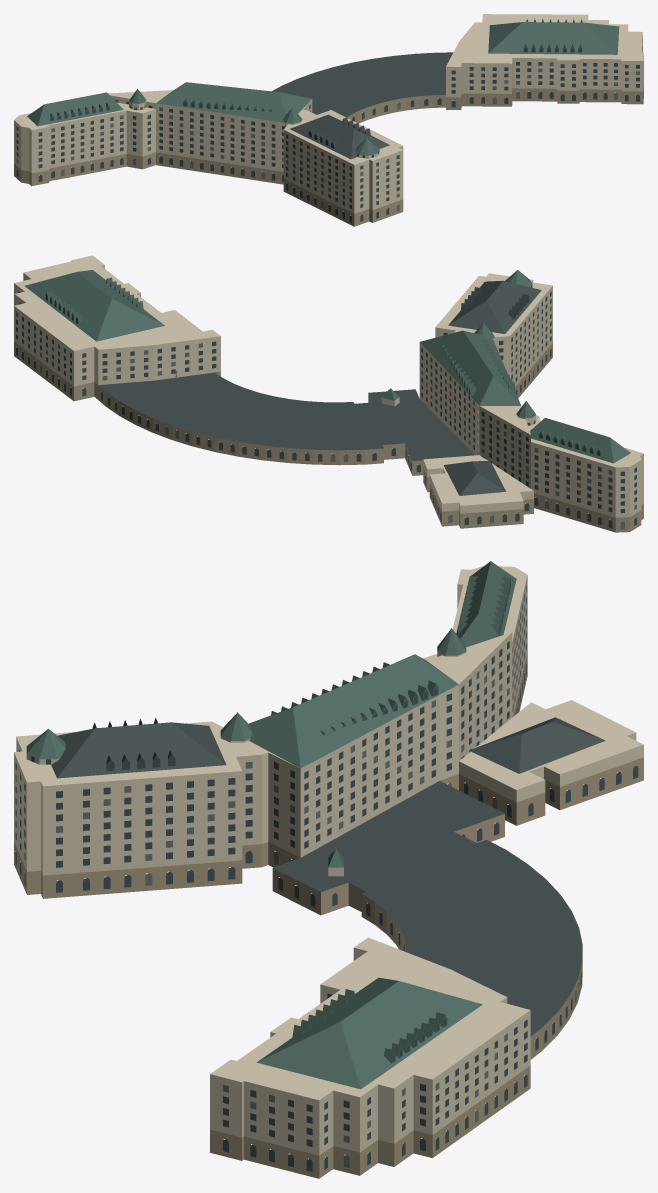
Rendered from fairmont-chateau-lake-louise-far.glb.
The picture shows the model from 3 angles, top to bottom: view 1: azimuth 30°, elevation 25°; view 2: azimuth 150°, elevation 25°; view 3: azimuth 270°, elevation 25°; orthographic projection. The views are drawn at different scales.
Visible parts, largest first — view 1: fairmont-chateau-lake-louise-0-stone, fairmont-chateau-lake-louise-0-copper, fairmont-chateau-lake-louise-0-roof, fairmont-chateau-lake-louise-0-base, fairmont-chateau-lake-louise-0-glass, fairmont-chateau-lake-louise-0-glow; view 2: fairmont-chateau-lake-louise-0-stone, fairmont-chateau-lake-louise-0-roof, fairmont-chateau-lake-louise-0-copper, fairmont-chateau-lake-louise-0-base, fairmont-chateau-lake-louise-0-glass, fairmont-chateau-lake-louise-0-glow; view 3: fairmont-chateau-lake-louise-0-stone, fairmont-chateau-lake-louise-0-roof, fairmont-chateau-lake-louise-0-copper, fairmont-chateau-lake-louise-0-base, fairmont-chateau-lake-louise-0-glass, fairmont-chateau-lake-louise-0-glow.
Part boxes in pixels (box(x1,y1,x2,y2)): fairmont-chateau-lake-louise-0-stone: box(14, 14, 643, 214); fairmont-chateau-lake-louise-0-copper: box(27, 19, 619, 155); fairmont-chateau-lake-louise-0-roof: box(272, 52, 453, 159); fairmont-chateau-lake-louise-0-base: box(14, 86, 643, 226); fairmont-chateau-lake-louise-0-glass: box(16, 39, 642, 222); fairmont-chateau-lake-louise-0-glow: box(16, 62, 639, 211); fairmont-chateau-lake-louise-0-stone: box(14, 255, 643, 517); fairmont-chateau-lake-louise-0-roof: box(98, 280, 541, 495); fairmont-chateau-lake-louise-0-copper: box(24, 270, 630, 463); fairmont-chateau-lake-louise-0-base: box(14, 341, 643, 532); fairmont-chateau-lake-louise-0-glass: box(16, 285, 636, 527); fairmont-chateau-lake-louise-0-glow: box(16, 302, 636, 529); fairmont-chateau-lake-louise-0-stone: box(14, 566, 643, 1155); fairmont-chateau-lake-louise-0-roof: box(51, 717, 605, 1036); fairmont-chateau-lake-louise-0-copper: box(26, 561, 516, 1089); fairmont-chateau-lake-louise-0-base: box(14, 653, 643, 1178); fairmont-chateau-lake-louise-0-glass: box(15, 582, 638, 1171); fairmont-chateau-lake-louise-0-glow: box(15, 585, 579, 1168).
Bounding box in the file's own units: 307 × 40 × 160.
